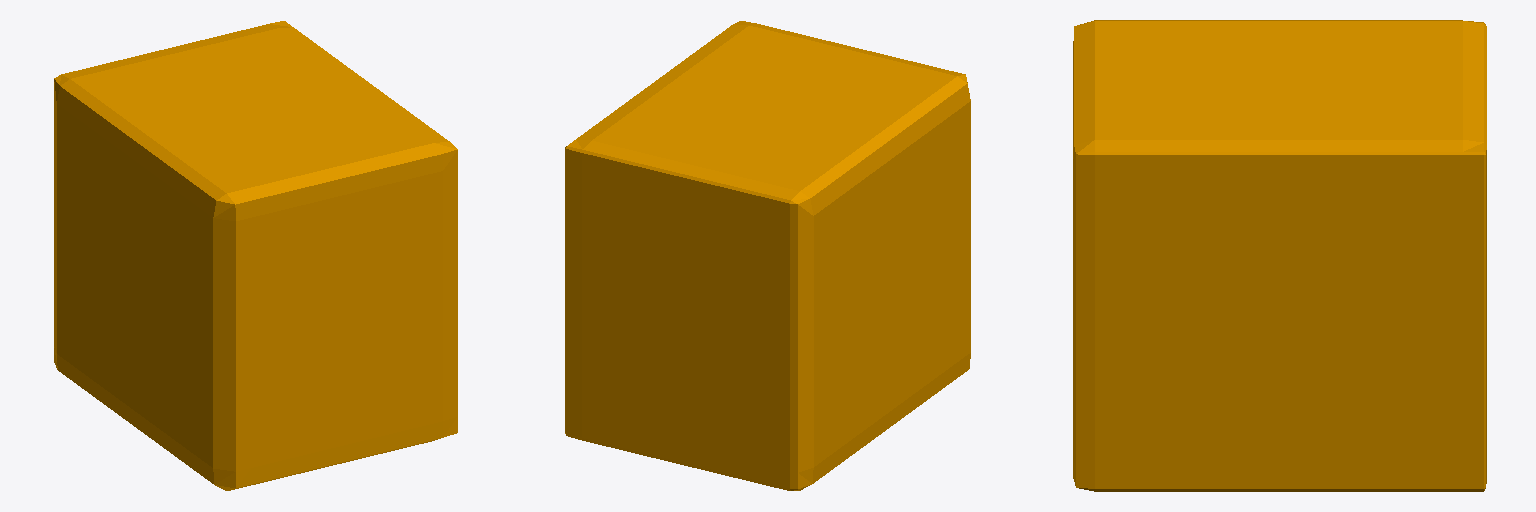
URDF robot description (cylinder_box_18):
<?xml version="1.0" encoding="utf-8"?>  <robot name="cylinder_box_18">   <link name="cylinder_box_18">     <visual>       <geometry>         <mesh filename="../meshes/box/box_18.stl" scale="1 1 1"/>       </geometry>     </visual>     <collision>       <geometry>         <mesh filename="../meshes/box/box_18.stl" scale="1 1 1"/>       </geometry>     </collision>     <inertial>        <origin         xyz="0 0 0"         rpy="0 0 0" />       <mass value="0.6316272791939692"/>       <origin rpy="0 0 0" xyz="0 0 0"/>       <inertia ixx="0.0008912796590015392" ixy="1.0123858945512511e-07" ixz="-3.729825484502932e-07" iyy="0.0007058103609541045" iyz="-4.364002508233295e-08" izz="0.0007662610841343546"/>     </inertial>   </link>  </robot>

--- What the picture shows (computed from the rendered views, not written in the file) ---
The picture shows the robot from 3 angles, left to right: view 1: azimuth 30°, elevation 25°; view 2: azimuth 150°, elevation 25°; view 3: azimuth 270°, elevation 25°; orthographic projection.
Robot: cylinder_box_18 — 1 links, 0 joints (none); root link cylinder_box_18; default pose: every joint at zero.
Links seen in each view (by area): view 1: cylinder_box_18; view 2: cylinder_box_18; view 3: cylinder_box_18.
Link boxes in pixels (x1,y1,x2,y2): cylinder_box_18: (54,21,457,490); cylinder_box_18: (565,21,970,490); cylinder_box_18: (1073,20,1486,491).
Size in the robot's own frame: 0.0747 by 0.0955 by 0.0893 metres.
Meshes: 1 distinct files referenced, 1 mesh visuals loaded (1 binary STL).